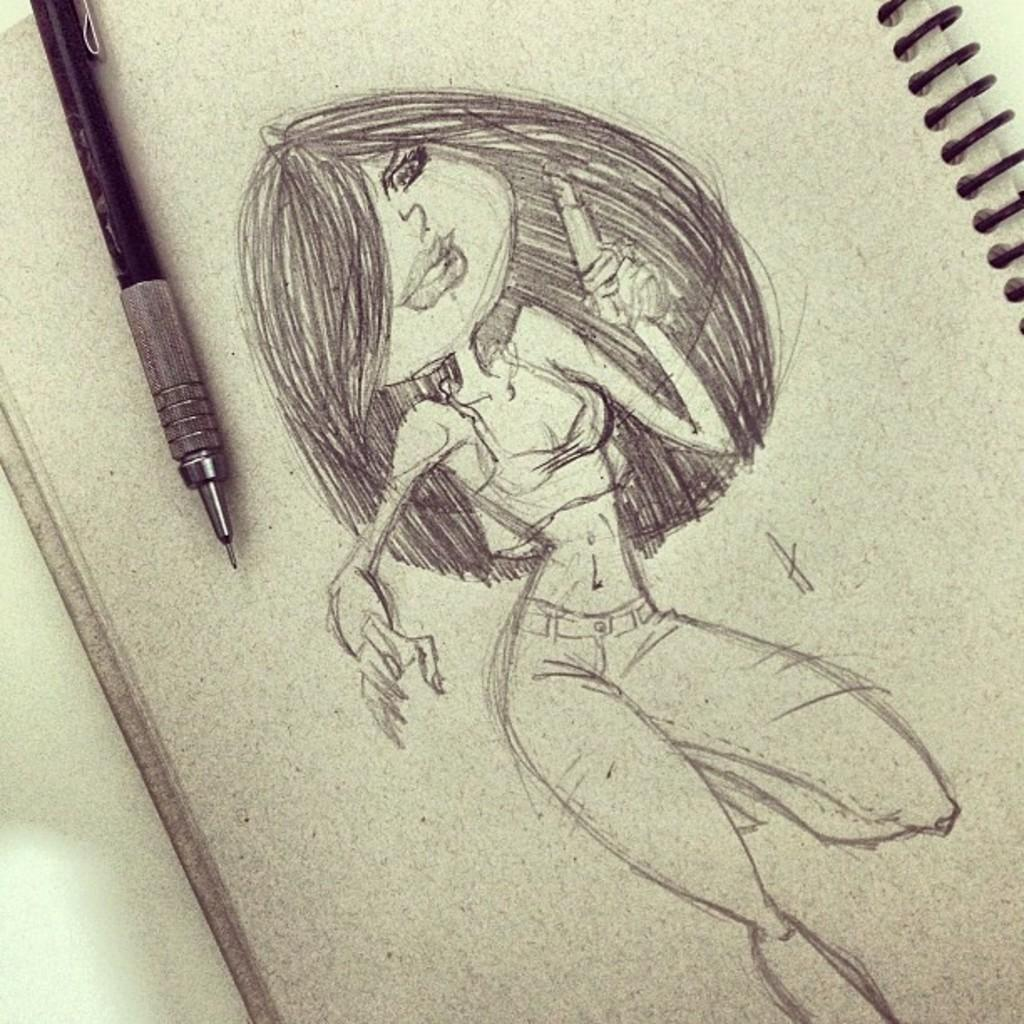pen: (23, 0, 239, 571)
